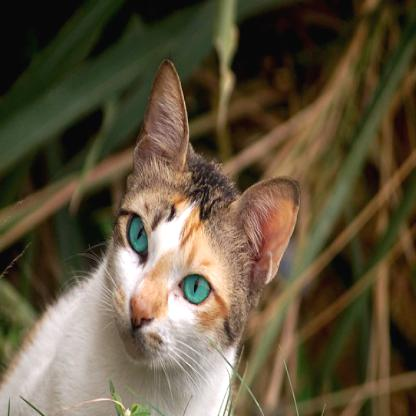cat: (1, 58, 301, 415)
